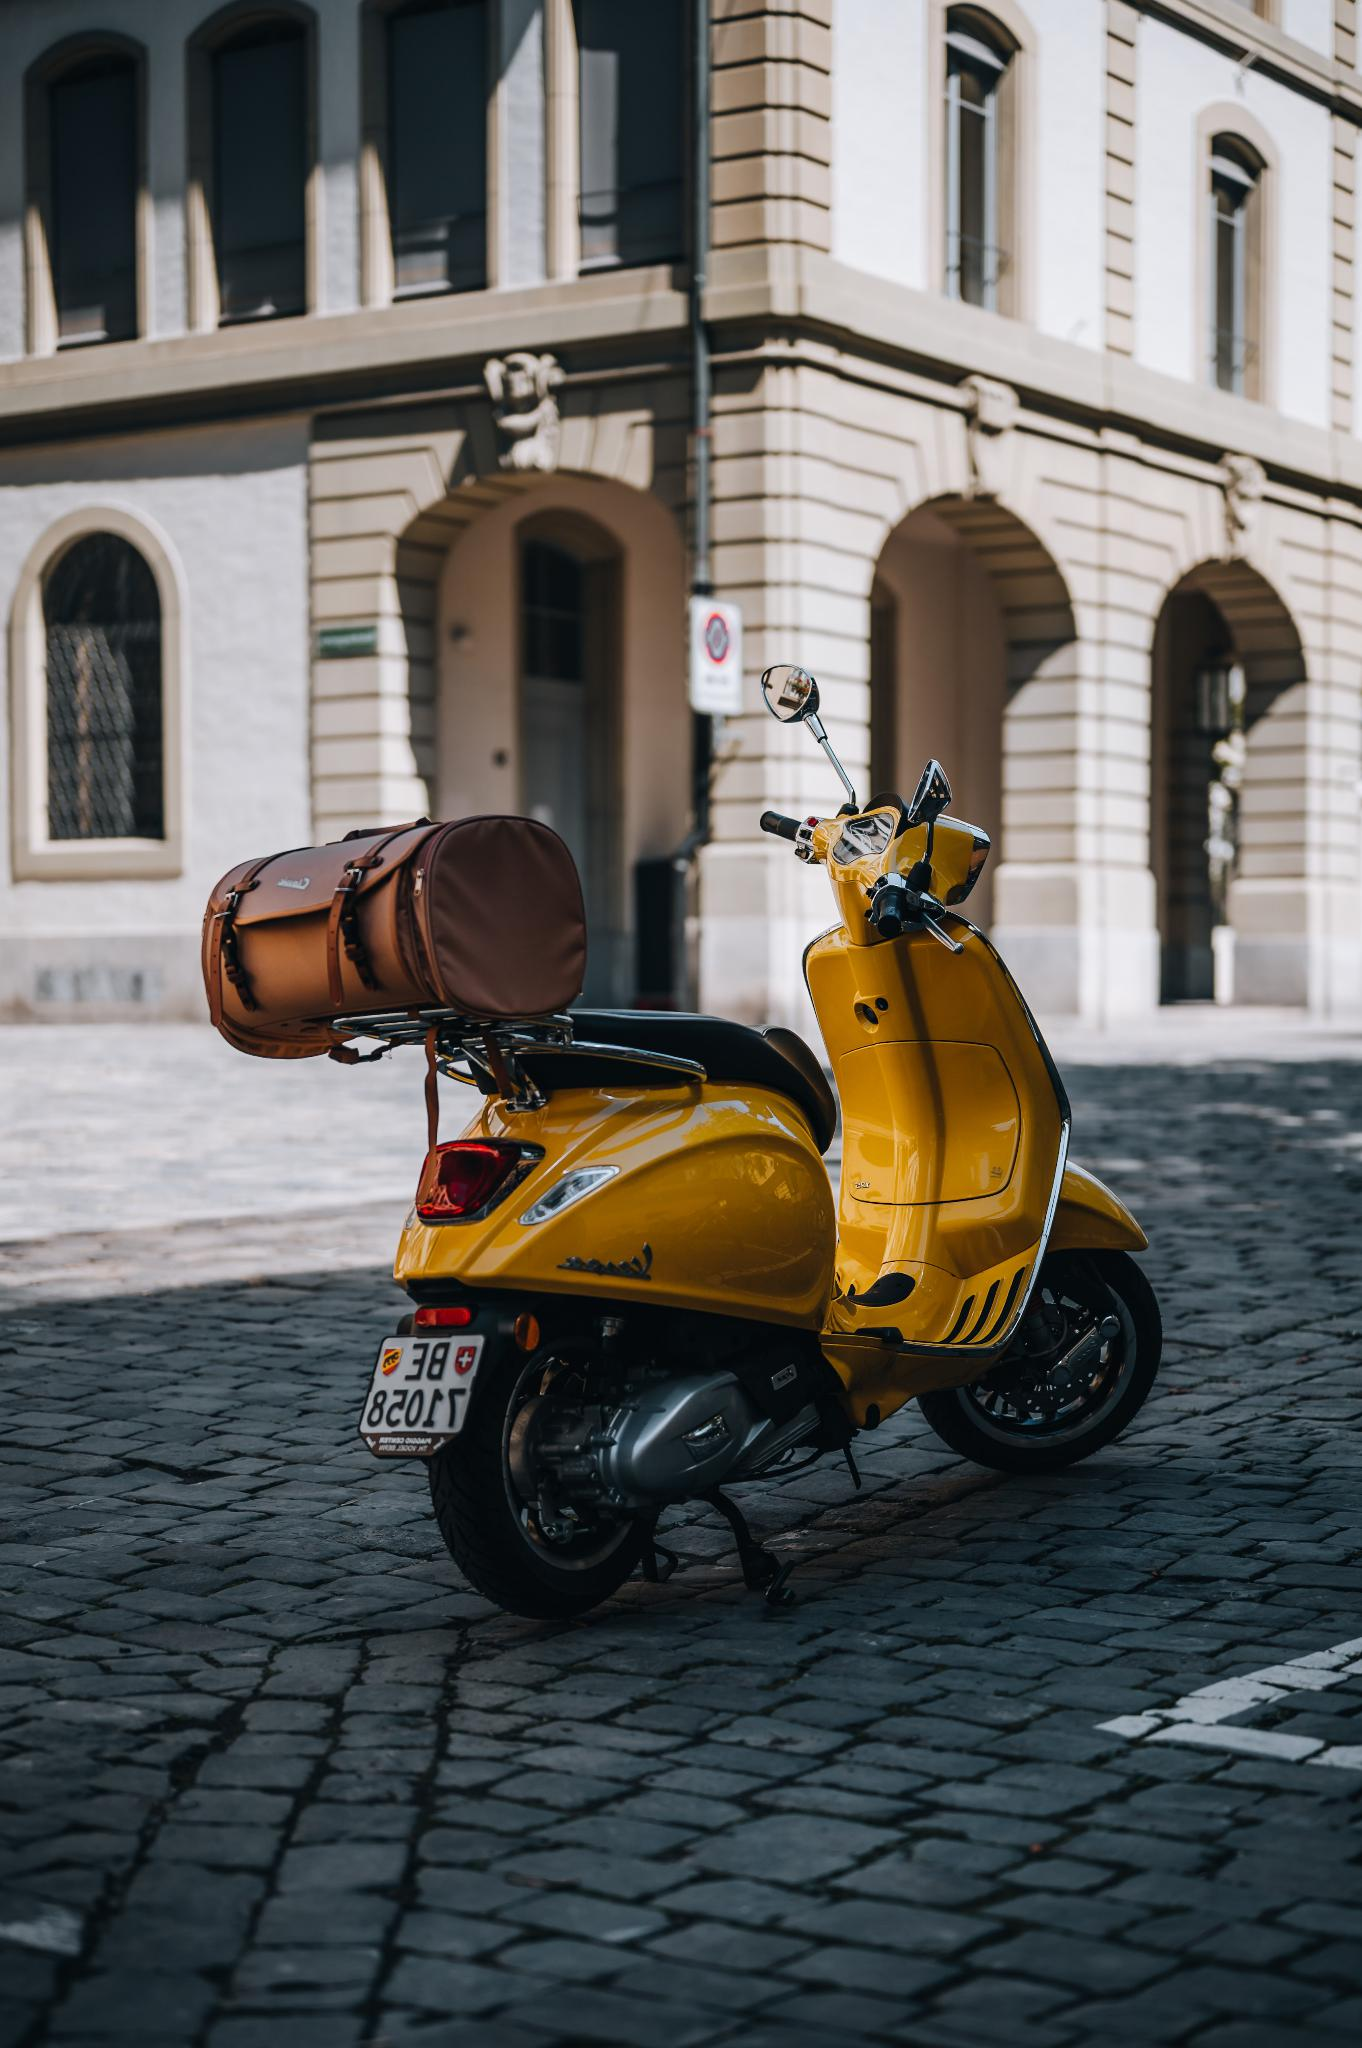motorcycle: (328, 653, 1208, 1635)
